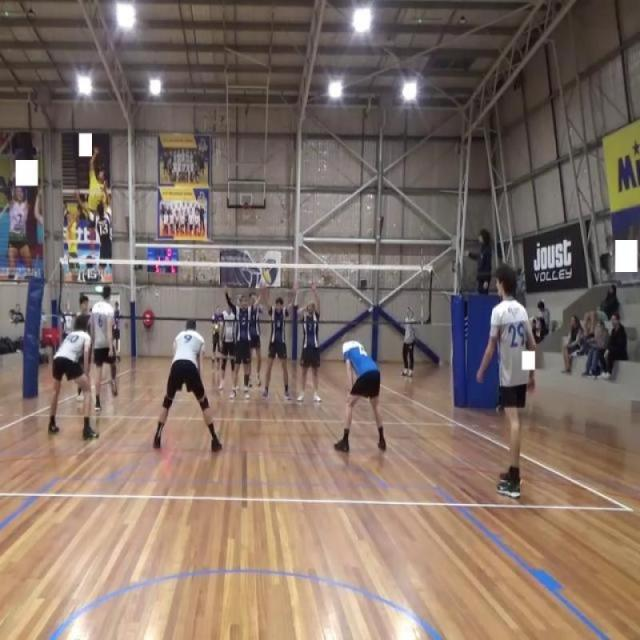volleyball: (214, 323, 220, 333)
